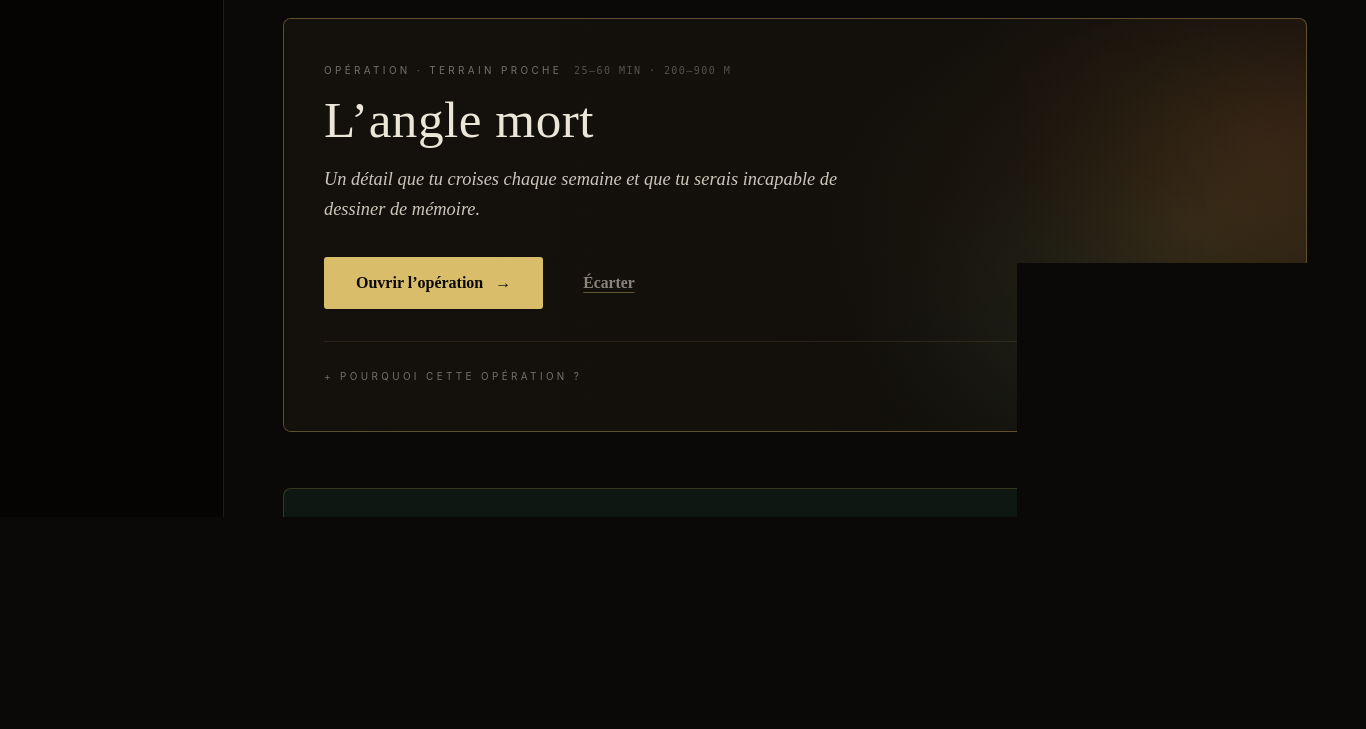
it: shell et navigation › propose « L’angle mort » et expose pourquoi
(page scrolled)
Expected: the heading "L’angle mort" is shown, [324, 91, 594, 148]
Click the button "+ Pourquoi cette opération ?": (453, 377) [324, 355, 582, 399]
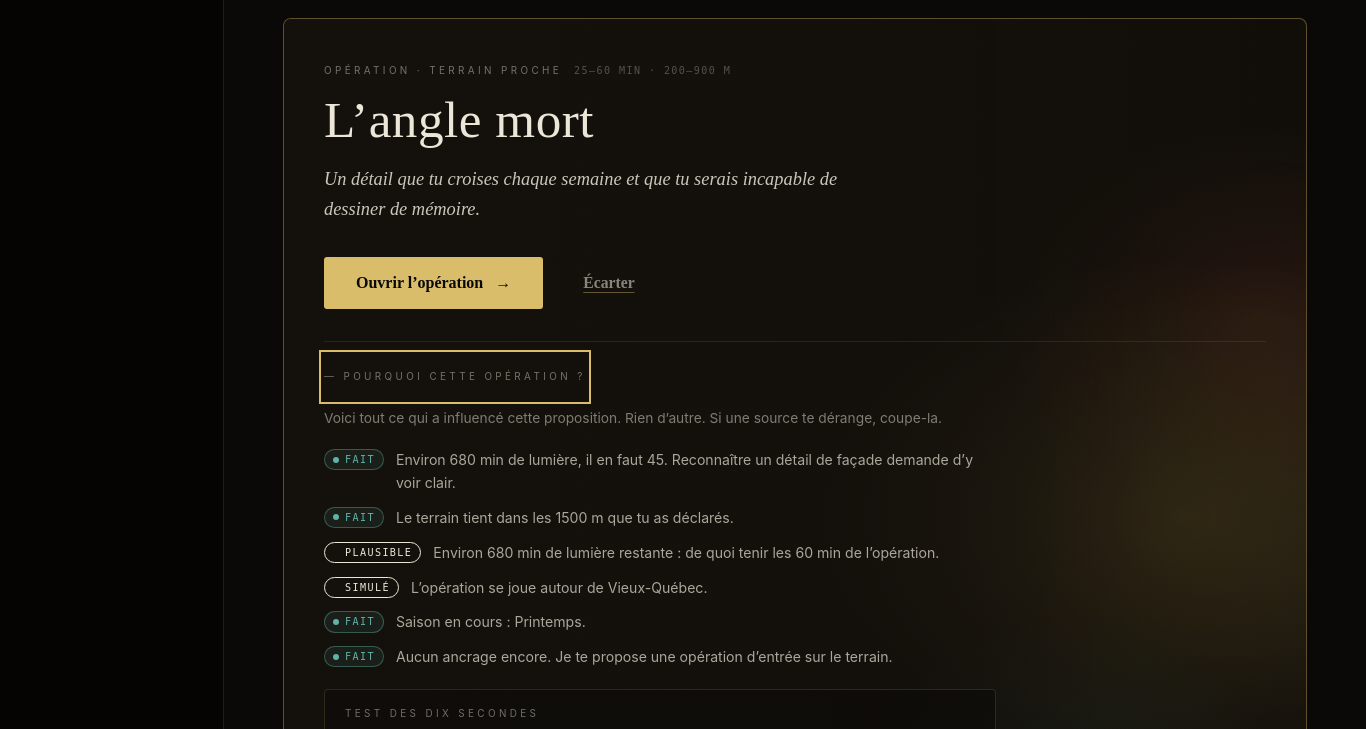
Now the text "Test des dix secondes" is shown, box [345, 707, 539, 719]
